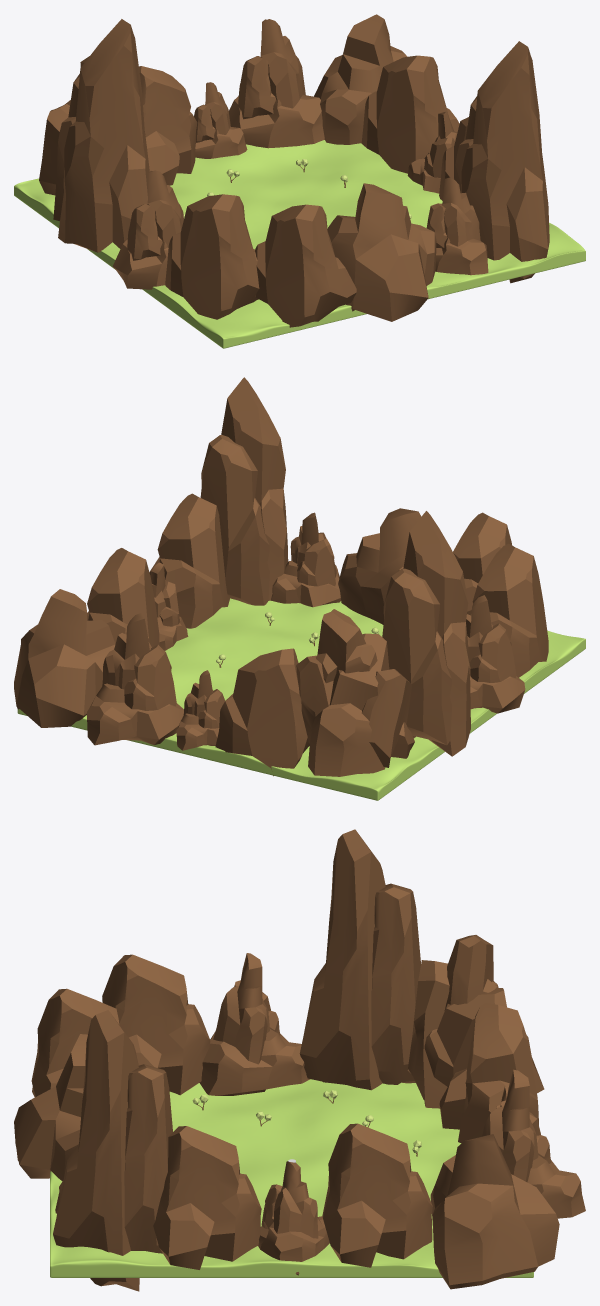
3 renders of one model, top to bottom at view 1: azimuth 30°, elevation 25°; view 2: azimuth 150°, elevation 25°; view 3: azimuth 270°, elevation 25°, orthographic. The views are drawn at different scales.
Parts seen in each view (by area): view 1: New object, Rock_4.001, Rock_4, Rock_2.001, Rock_1, Rock_1.003, Rock_5.005, Rock_1.002, Rock_2, Rock_1.001, Rock_5, Rock_5.001 (+4 smaller); view 2: New object, Rock_4.001, Rock_3, Rock_4, Rock_2, Rock_5.005, Rock_1.001, Rock_1.004, Rock_1, Rock_2.001, Rock_5, Rock_1.002 (+4 smaller); view 3: New object, Rock_4.001, Rock_4, Rock_2, Rock_1.002, Rock_1.004, Rock_3, Rock_1, Rock_5, Rock_1.001, Rock_2.001, Rock_5.005 (+2 smaller).
Part boxes in pixels (x1=…): New object: x1=14, y1=140, x2=585, y2=348; Rock_4.001: x1=53, y1=19, x2=149, y2=252; Rock_4: x1=454, y1=41, x2=549, y2=283; Rock_2.001: x1=327, y1=183, x2=436, y2=321; Rock_1: x1=165, y1=194, x2=259, y2=319; Rock_1.003: x1=254, y1=204, x2=356, y2=327; Rock_5.005: x1=229, y1=19, x2=324, y2=148; Rock_1.002: x1=361, y1=55, x2=459, y2=173; Rock_2: x1=314, y1=14, x2=407, y2=144; Rock_1.001: x1=139, y1=66, x2=197, y2=185; Rock_5: x1=112, y1=170, x2=183, y2=289; Rock_5.001: x1=426, y1=177, x2=488, y2=275; New object: x1=17, y1=598, x2=585, y2=800; Rock_4.001: x1=382, y1=511, x2=470, y2=756; Rock_3: x1=296, y1=609, x2=414, y2=776; Rock_4: x1=200, y1=377, x2=288, y2=605; Rock_2: x1=14, y1=589, x2=115, y2=727; Rock_5.005: x1=87, y1=612, x2=183, y2=745; Rock_1.001: x1=215, y1=648, x2=309, y2=776; Rock_1.004: x1=149, y1=493, x2=229, y2=628; Rock_1: x1=470, y1=543, x2=548, y2=677; Rock_2.001: x1=338, y1=508, x2=421, y2=624; Rock_5: x1=466, y1=595, x2=525, y2=713; Rock_1.002: x1=87, y1=548, x2=159, y2=647; New object: x1=50, y1=1079, x2=533, y2=1277; Rock_4.001: x1=299, y1=829, x2=420, y2=1090; Rock_4: x1=53, y1=1010, x2=172, y2=1291; Rock_2: x1=430, y1=1134, x2=559, y2=1289; Rock_1.002: x1=322, y1=1123, x2=432, y2=1267; Rock_1.004: x1=153, y1=1126, x2=261, y2=1269; Rock_3: x1=407, y1=935, x2=544, y2=1108; Rock_1: x1=102, y1=954, x2=210, y2=1095; Rock_5: x1=199, y1=953, x2=310, y2=1095; Rock_1.001: x1=439, y1=1003, x2=538, y2=1143; Rock_2.001: x1=14, y1=1034, x2=87, y2=1181; Rock_5.005: x1=482, y1=1069, x2=585, y2=1218.
Size of the model in its own units: 134 by 80.07 by 141.
